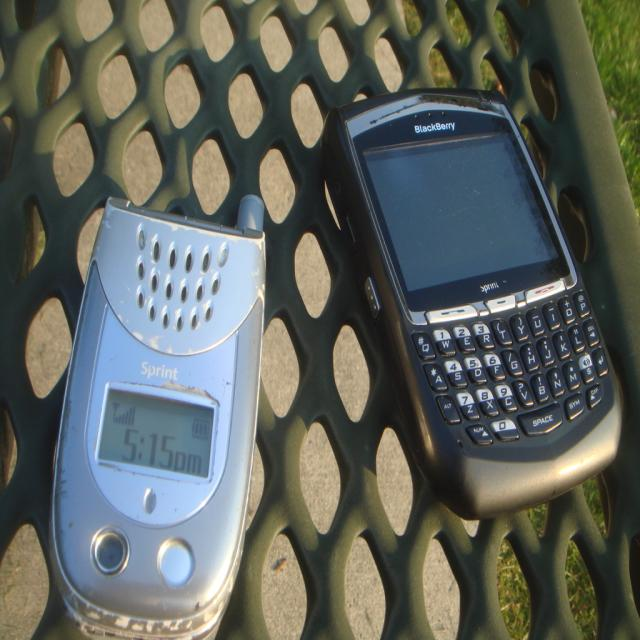Mobile-phone: (318, 98, 628, 546), (49, 196, 268, 640)
